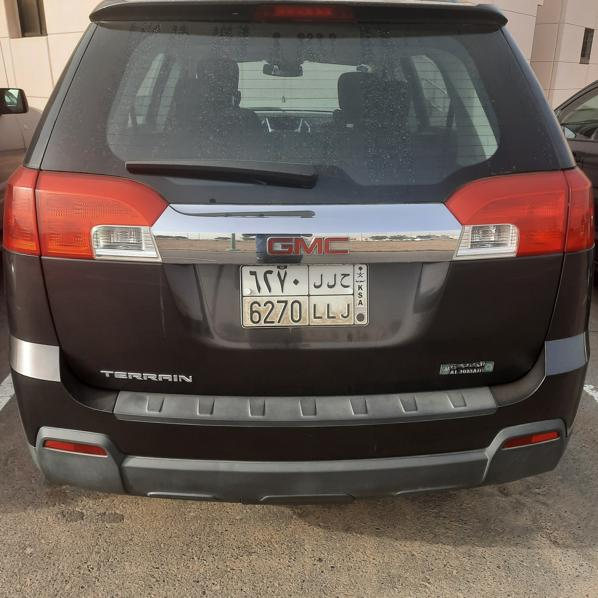numberplate: (240, 266, 368, 326)
